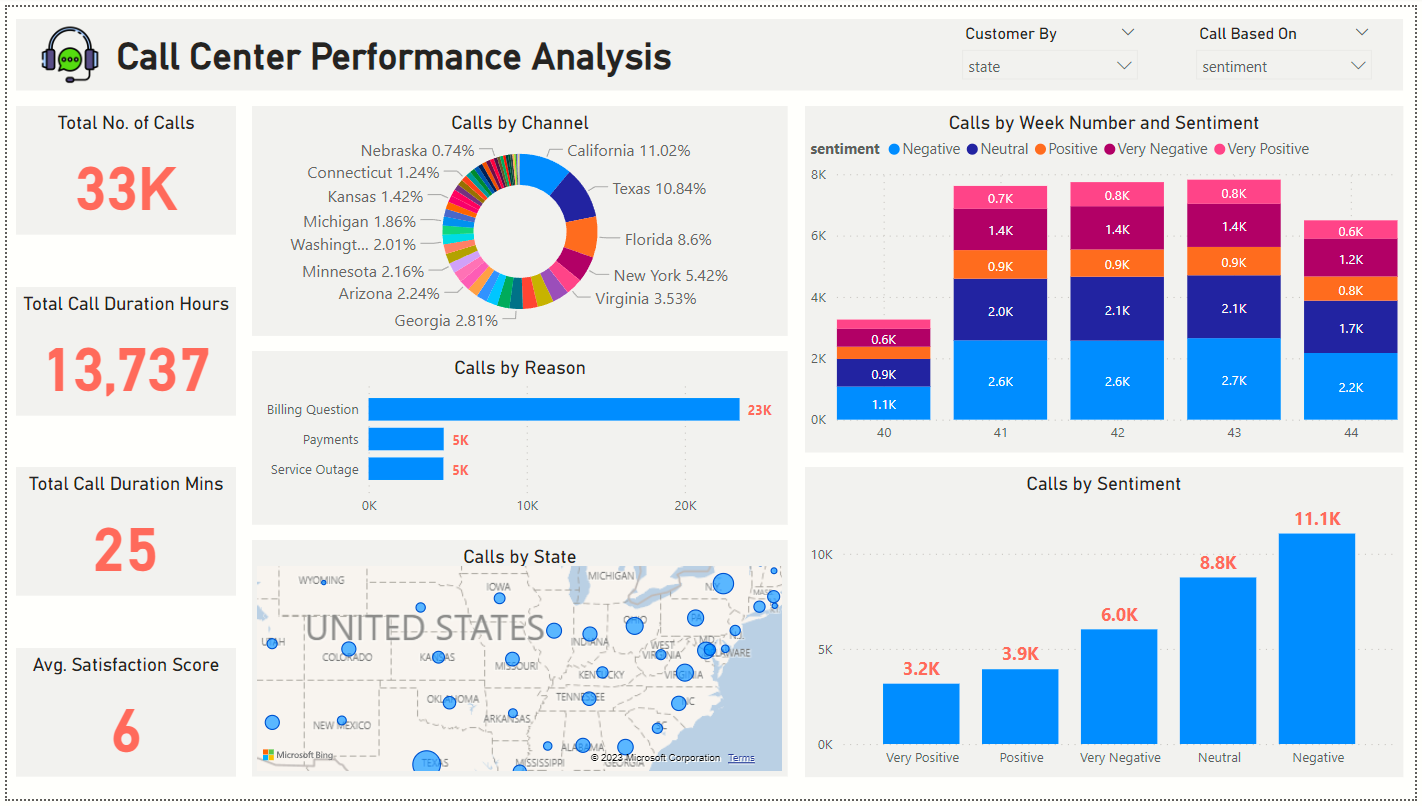

Layout of this report page (visuals, bound fields, positions):
{"tool":"powerbi","page":{"name":"Page 1","canvas":[1280,720],"ordinal":0},"visuals":[{"type":"card","title":"Total No. of Calls","fields":{"Values":["Call Center.Total Calls"]},"box":[8.2,90,200,117.3],"z":0},{"type":"card","title":"Total Call Duration Hours","fields":{"Values":["Call Center.Total Call Duration Hrs"]},"box":[8.2,254.2,200,117.3],"z":1000},{"type":"card","title":"Total Call Duration Mins","fields":{"Values":["Call Center.Avg Call Duration in Mins"]},"box":[8.2,418.5,200,117.3],"z":2000},{"type":"card","title":"Avg. Satisfaction Score","fields":{"Values":["Call Center.Avg Csat Score"]},"box":[8.2,582.7,200,117.3],"z":3000},{"type":"textbox","box":[8.2,10.9,1260.9,65.5],"z":4000},{"type":"clusteredBarChart","title":"Calls by Reason","fields":{"Category":["Call Center.reason"],"Y":["Call Center.Total Calls"]},"box":[222.7,312.7,487.3,158.2],"z":4001},{"type":"clusteredColumnChart","title":"Calls by Sentiment","fields":{"Category":["Call Center.sentiment"],"Y":["Call Center.Total Calls"]},"box":[725.5,418.2,543.6,281.8],"z":4002},{"type":"slicer","fields":{"Values":["Customer By.Customer By"]},"box":[858.2,10.9,180,65.5],"z":4003},{"type":"donutChart","title":"Calls by Channel","fields":{"Category":["Call Center.state"],"Y":["Call Center.Total Calls"]},"box":[222.7,90,487.3,209.1],"z":4004},{"type":"columnChart","title":"Calls by Week Number and Sentiment","fields":{"Y":["Call Center.Total Calls"],"Category":["Call Center.Week Number"],"Series":["Call Center.sentiment"]},"box":[725.5,90,543.6,315.5],"z":4005},{"type":"slicer","fields":{"Values":["Call Based On.Call Based On"]},"box":[1070.9,10.9,180,65.5],"z":4006},{"type":"map","title":"Calls by State","fields":{"Category":["Call Center.state"],"Size":["Call Center.Total Calls"]},"box":[222.7,484.5,487.3,215.5],"z":4007},{"type":"image","box":[21.8,10.9,70.9,65.5],"z":4008}]}

Visuals, with their boxes in screenshot pixels (x1, y1, x2, y2), scaled from the page's 1280x720 canvas onto the 1422x806 screenshot:
"Total No. of Calls" card: <bbox>9, 101, 231, 232</bbox>
"Total Call Duration Hours" card: <bbox>9, 285, 231, 416</bbox>
"Total Call Duration Mins" card: <bbox>9, 468, 231, 600</bbox>
"Avg. Satisfaction Score" card: <bbox>9, 652, 231, 784</bbox>
textbox: <bbox>9, 12, 1410, 86</bbox>
"Calls by Reason" clusteredBarChart: <bbox>247, 350, 789, 527</bbox>
"Calls by Sentiment" clusteredColumnChart: <bbox>806, 468, 1410, 784</bbox>
slicer - Customer By.Customer By: <bbox>953, 12, 1153, 86</bbox>
"Calls by Channel" donutChart: <bbox>247, 101, 789, 335</bbox>
"Calls by Week Number and Sentiment" columnChart: <bbox>806, 101, 1410, 454</bbox>
slicer - Call Based On.Call Based On: <bbox>1190, 12, 1390, 86</bbox>
"Calls by State" map: <bbox>247, 542, 789, 784</bbox>
image: <bbox>24, 12, 103, 86</bbox>
